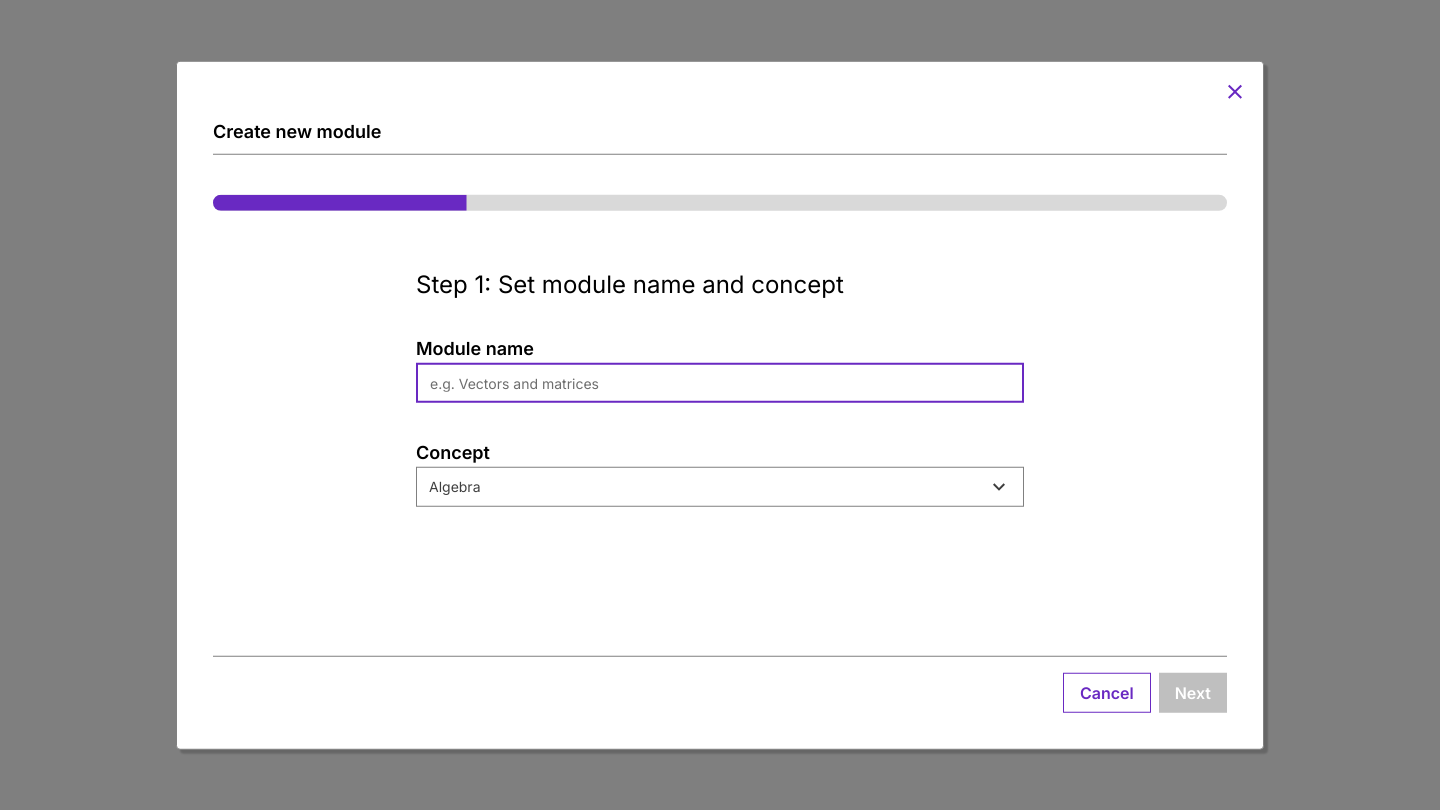
CourseWizard › allows a name that only collides with a module in a different concept
Type "Vectors" into the field labelled "Module name".
click(720, 383); type("Vectors")  # box [416,363,1024,403]
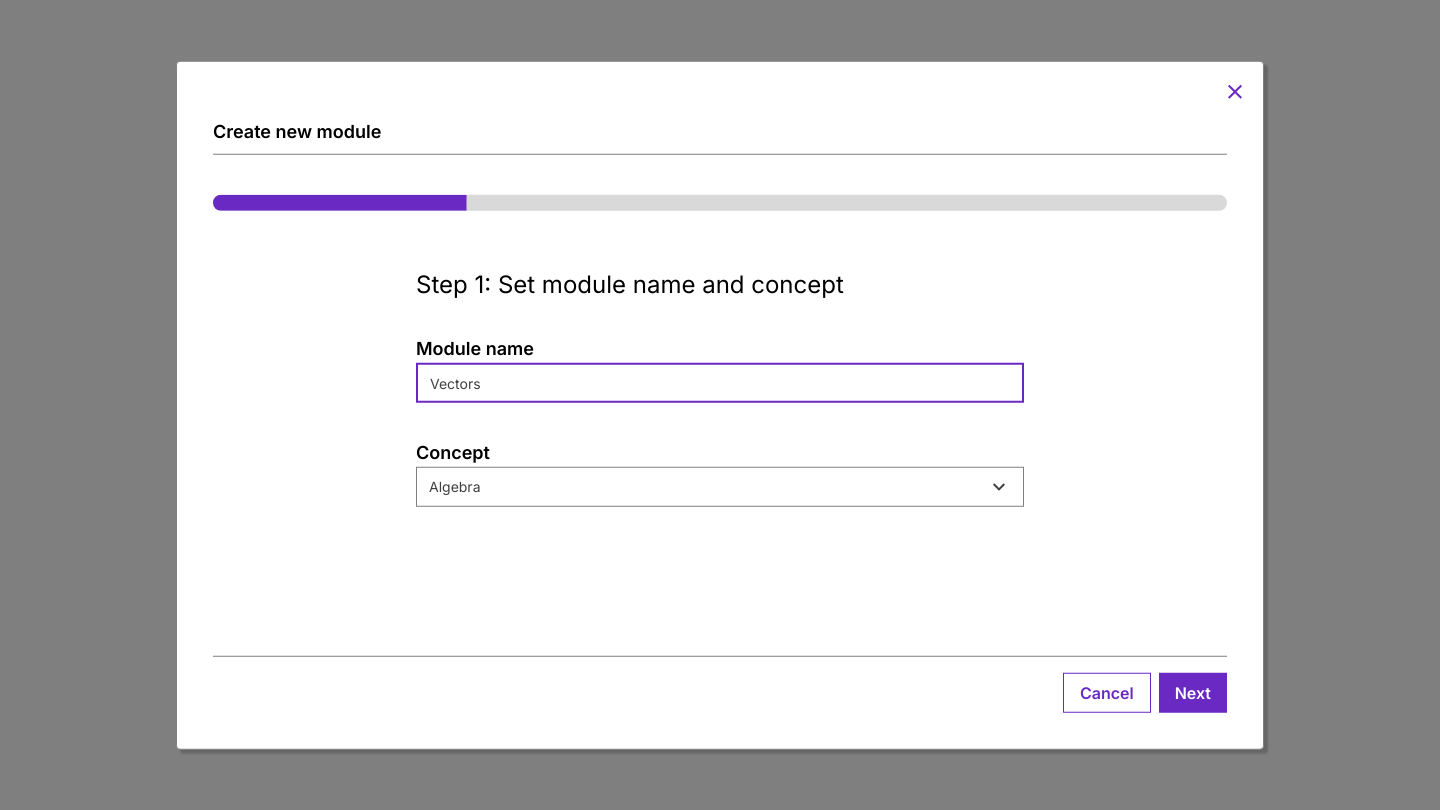
Click the button "Next".
click(1193, 692)  # box [1159,672,1227,712]
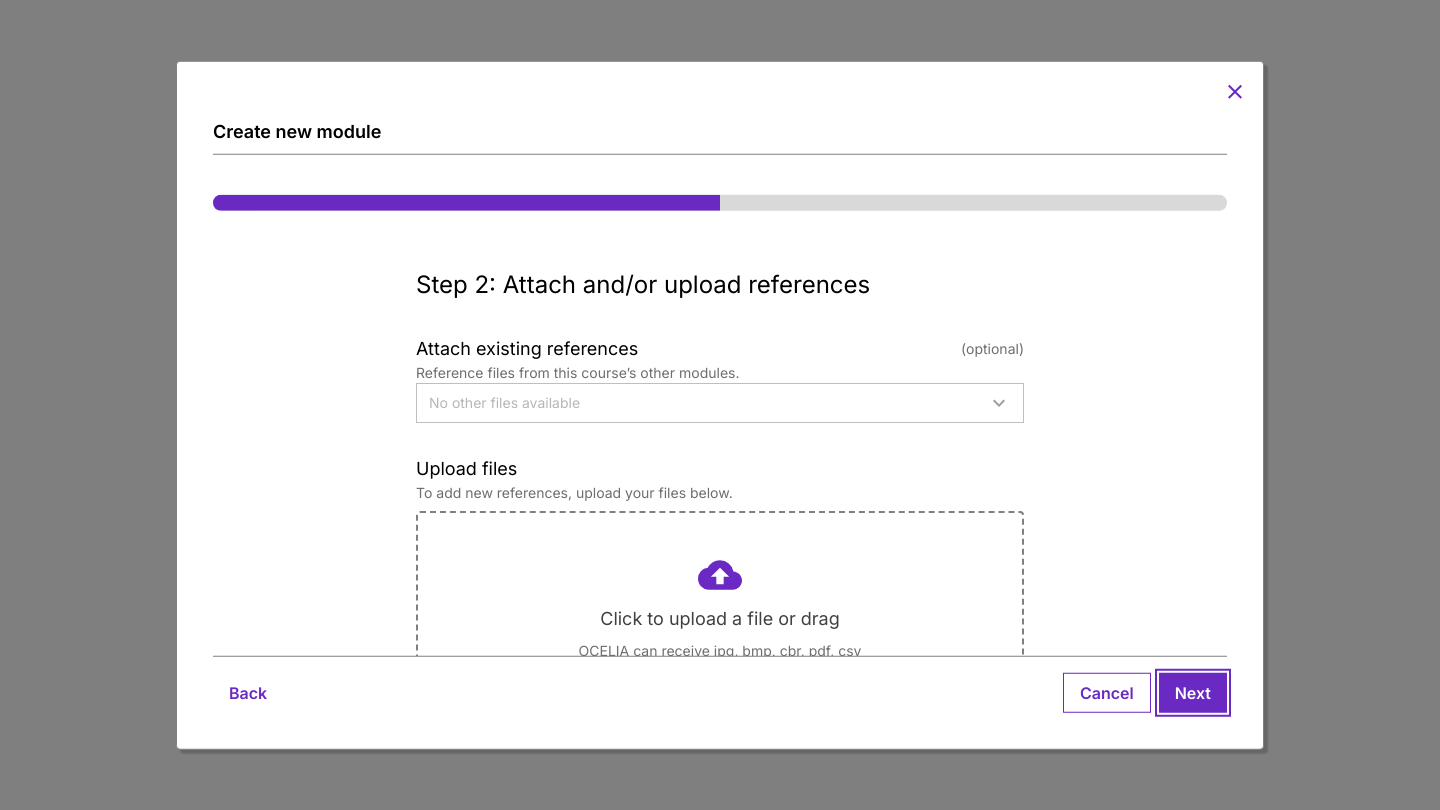
Now the button with aria-label "Upload files" is shown, box [600,605,840,633]
